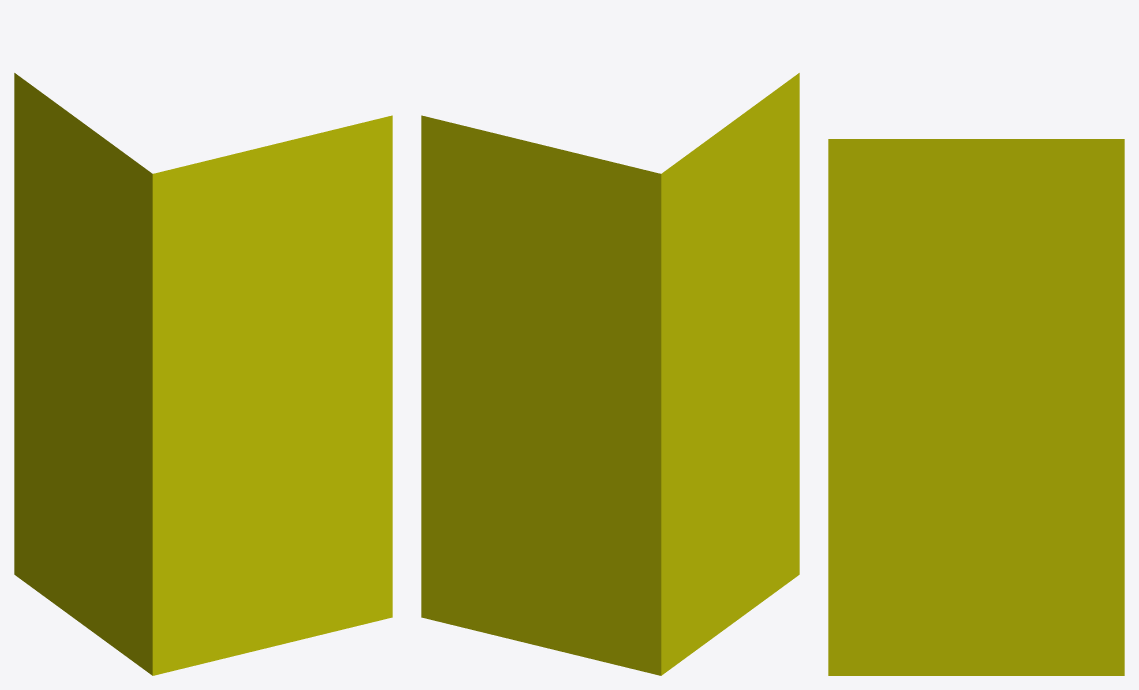
Rendered from cty_sq1.glb.
3 renders of one model, left to right at view 1: azimuth 30°, elevation 25°; view 2: azimuth 150°, elevation 25°; view 3: azimuth 270°, elevation 25°, orthographic. The views are drawn at different scales.
Parts seen in each view (by area): view 1: SM_Bld_OfficeSquare_01; view 2: SM_Bld_OfficeSquare_01; view 3: SM_Bld_OfficeSquare_01.
Boxes of the visible parts, x1,y1,x2,y2 form: SM_Bld_OfficeSquare_01: [14, 73, 392, 675]; SM_Bld_OfficeSquare_01: [421, 73, 799, 675]; SM_Bld_OfficeSquare_01: [828, 139, 1124, 675].
Bounding box in the file's own units: 0.15 × 0.3 × 0.15.
Materials: 1 (1 with a texture image).
